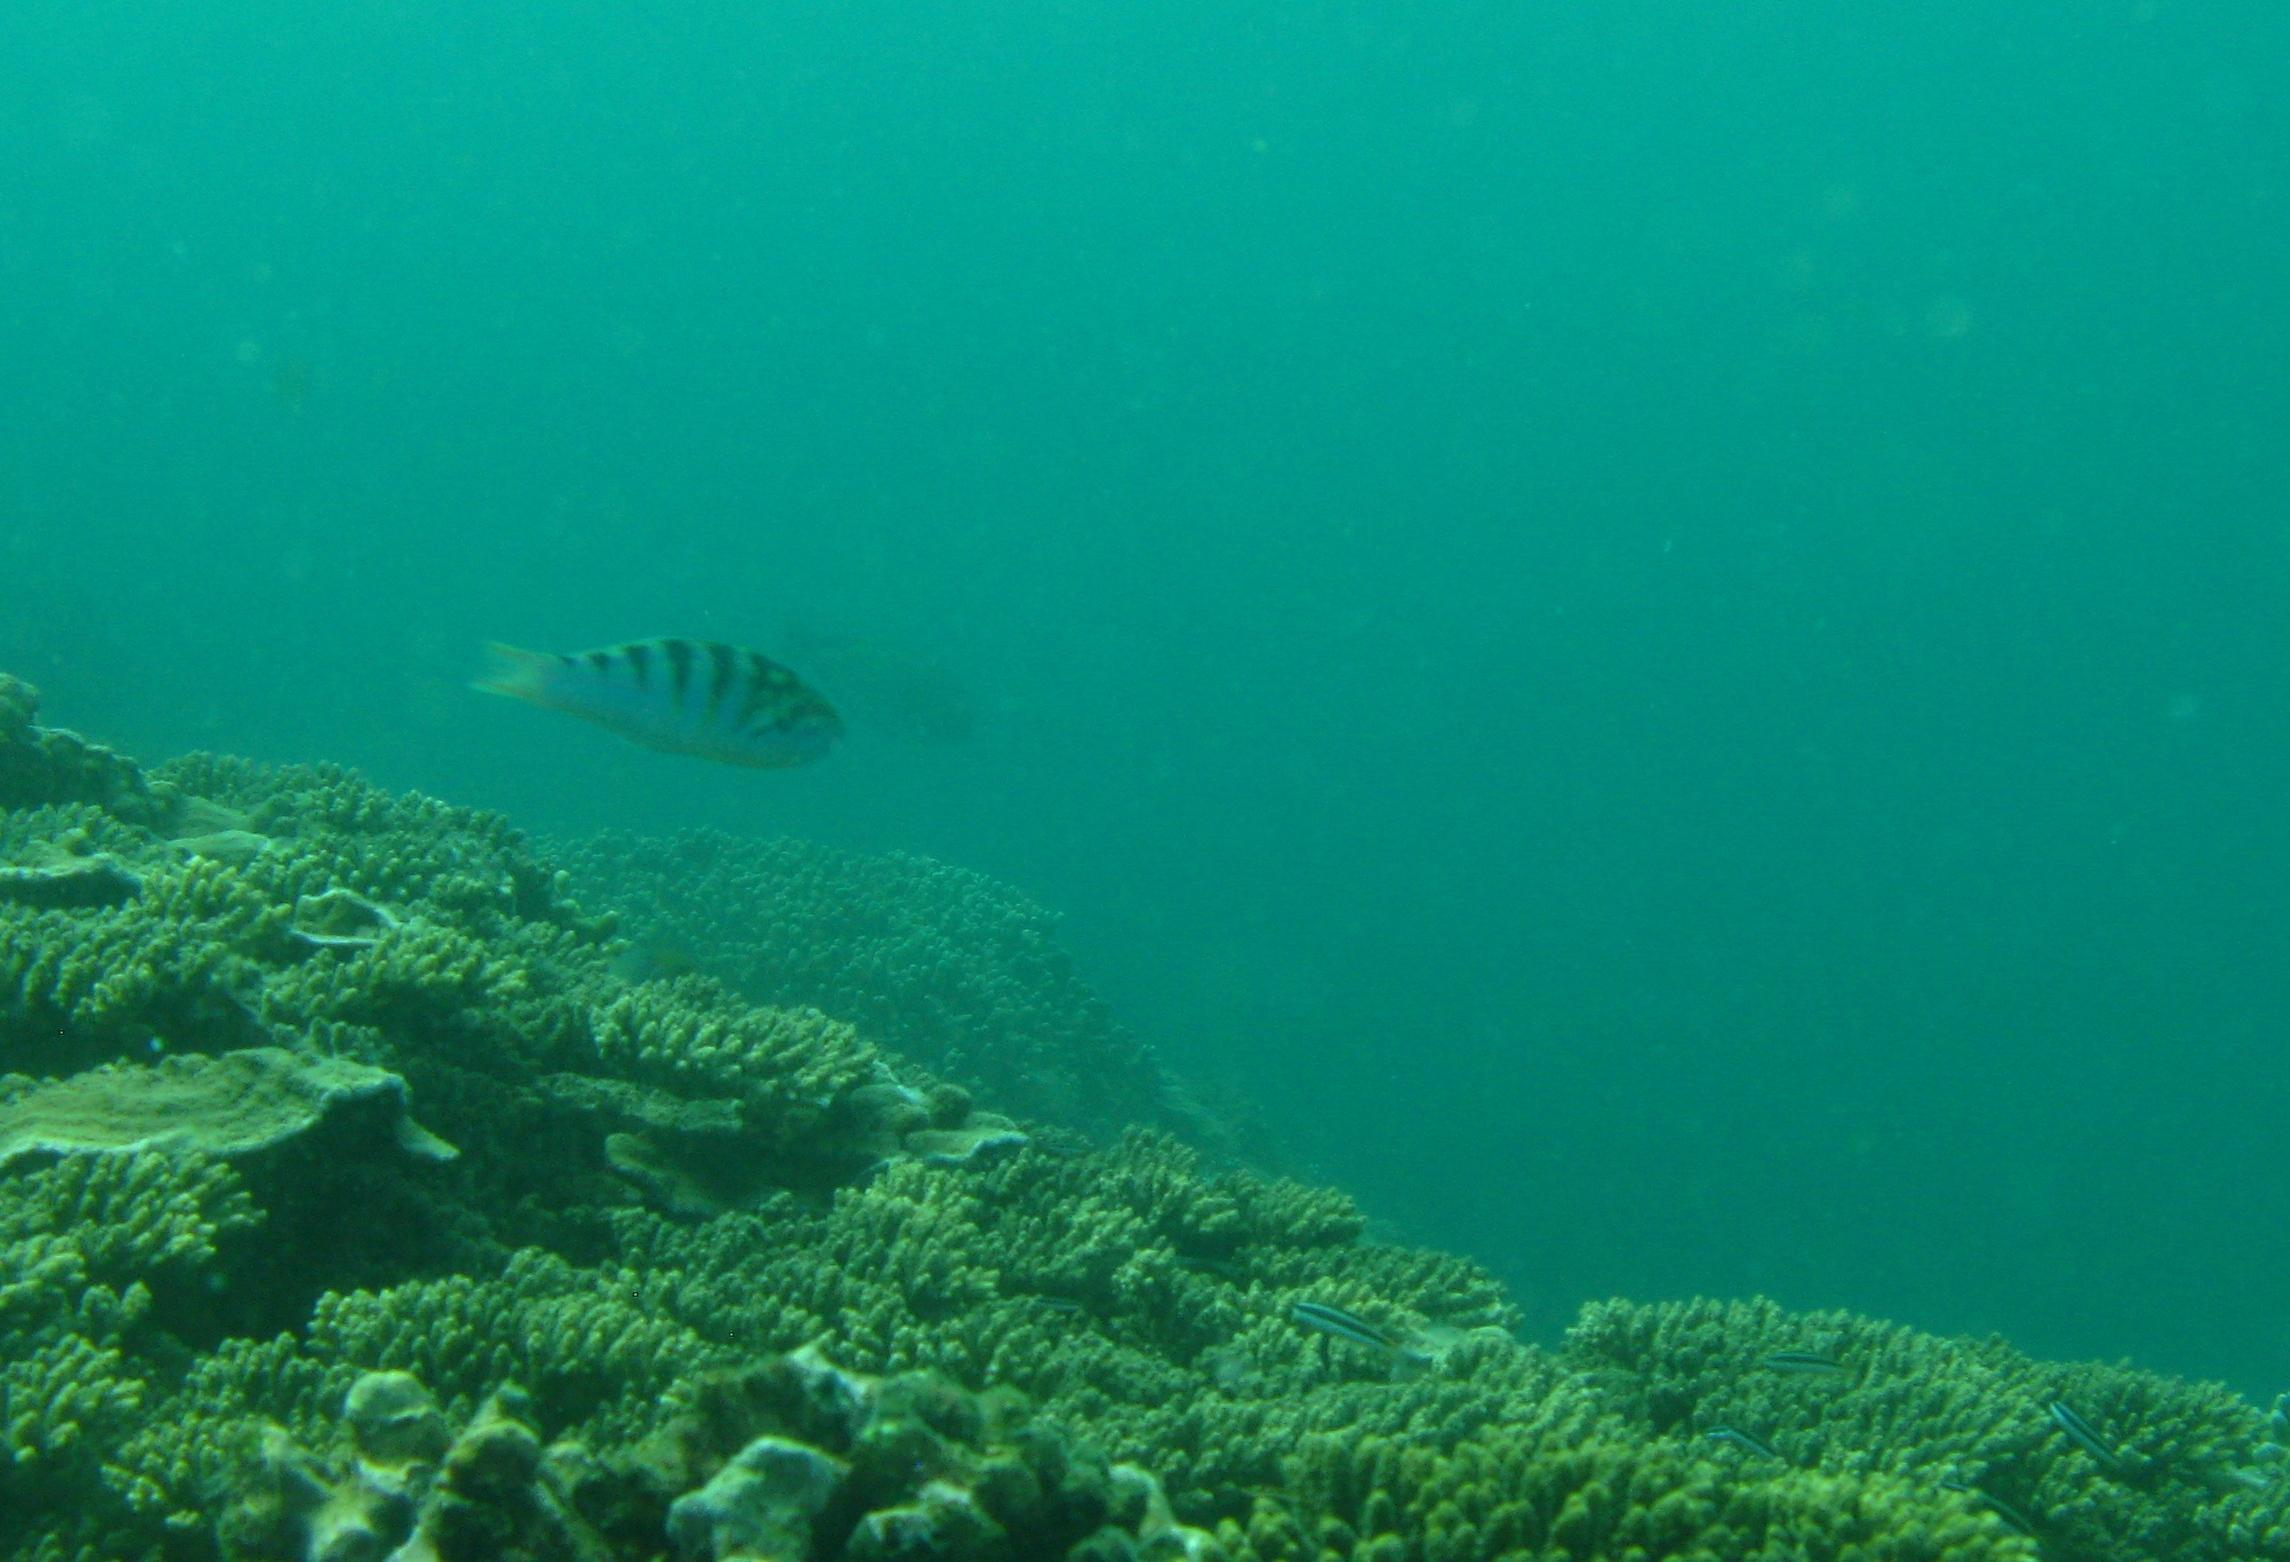Fish: (451, 611, 858, 812)
